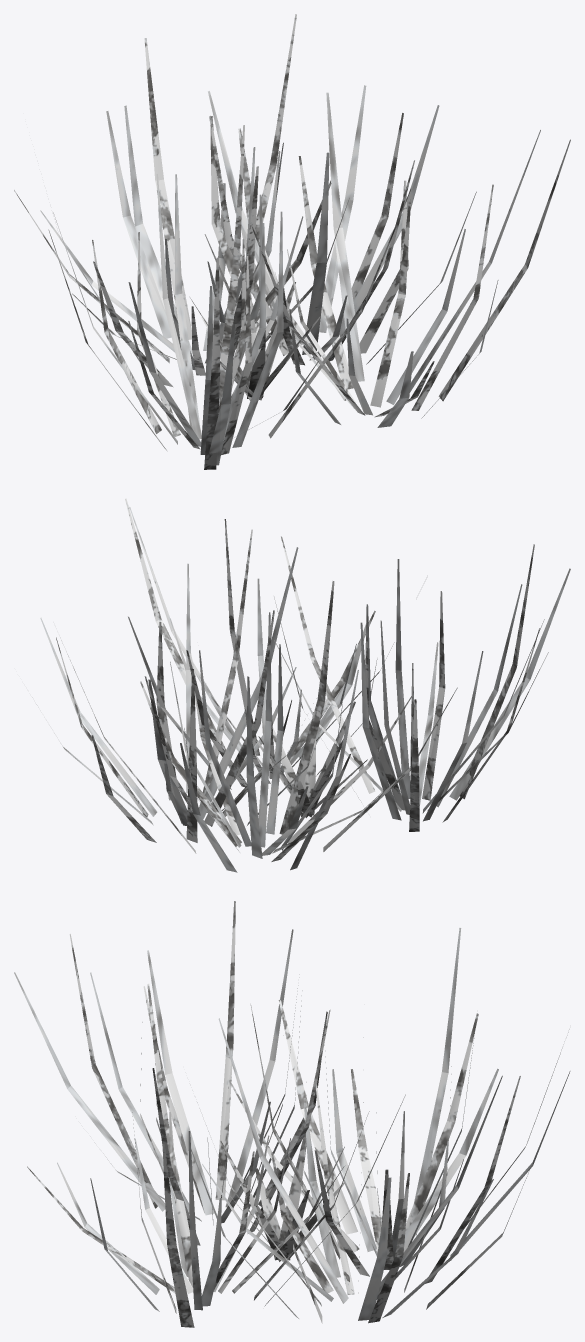
3 renders of one model, top to bottom at view 1: azimuth 30°, elevation 25°; view 2: azimuth 150°, elevation 25°; view 3: azimuth 270°, elevation 25°, orthographic. The views are drawn at different scales.
Visible parts, largest first — view 1: bush_M_grass, bush_M_leaf_dark, bush_M_leaf; view 2: bush_M_grass, bush_M_leaf_dark, bush_M_leaf; view 3: bush_M_grass, bush_M_leaf_dark, bush_M_leaf.
Boxes of the visible parts, x1=… form: bush_M_grass: x1=40, y1=85, x2=540, y2=465; bush_M_leaf_dark: x1=92, y1=14, x2=570, y2=469; bush_M_leaf: x1=14, y1=116, x2=493, y2=454; bush_M_grass: x1=32, y1=507, x2=570, y2=872; bush_M_leaf_dark: x1=53, y1=498, x2=548, y2=853; bush_M_leaf: x1=91, y1=519, x2=539, y2=861; bush_M_grass: x1=14, y1=928, x2=570, y2=1320; bush_M_leaf_dark: x1=69, y1=934, x2=569, y2=1327; bush_M_leaf: x1=27, y1=901, x2=531, y2=1323.
Bounding box in the file's own units: 0.7615 × 0.3896 × 0.748.
Materials: 3 (3 with a texture image).
